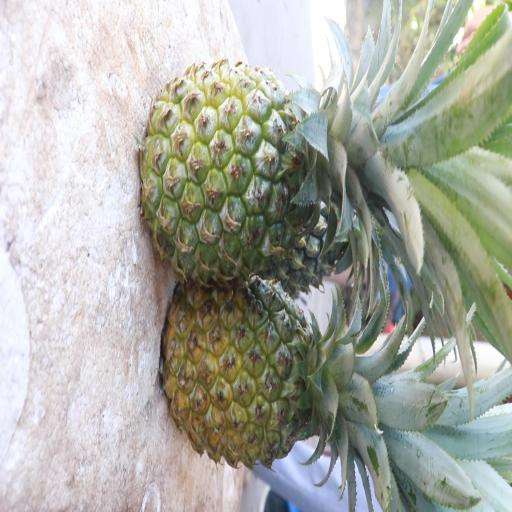------------------------------: (140, 67, 380, 280)
Pineapple - v8 v1: (164, 289, 377, 467)
